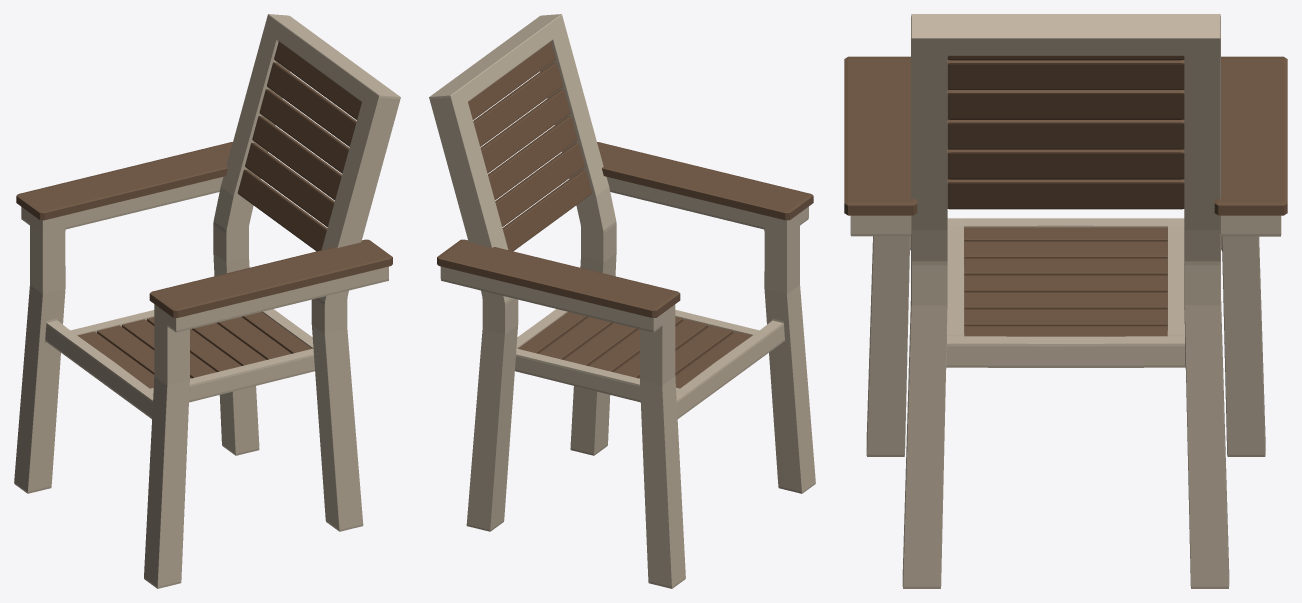
Rendered from chair.glb.
The picture shows the model from 3 angles, left to right: view 1: azimuth 30°, elevation 25°; view 2: azimuth 150°, elevation 25°; view 3: azimuth 270°, elevation 25°; orthographic projection. The views are drawn at different scales.
Visible parts, largest first — view 1: ChairFrame, ChairPanels; view 2: ChairFrame, ChairPanels; view 3: ChairFrame, ChairPanels.
Boxes of the visible parts, <box> form: ChairFrame: <box>14,14,400,588</box>; ChairPanels: <box>16,41,392,388</box>; ChairFrame: <box>429,14,815,588</box>; ChairPanels: <box>437,41,813,388</box>; ChairFrame: <box>850,14,1281,588</box>; ChairPanels: <box>844,56,1287,336</box>.
Size of the model in its own units: 0.806 by 1.26 by 0.8592.
